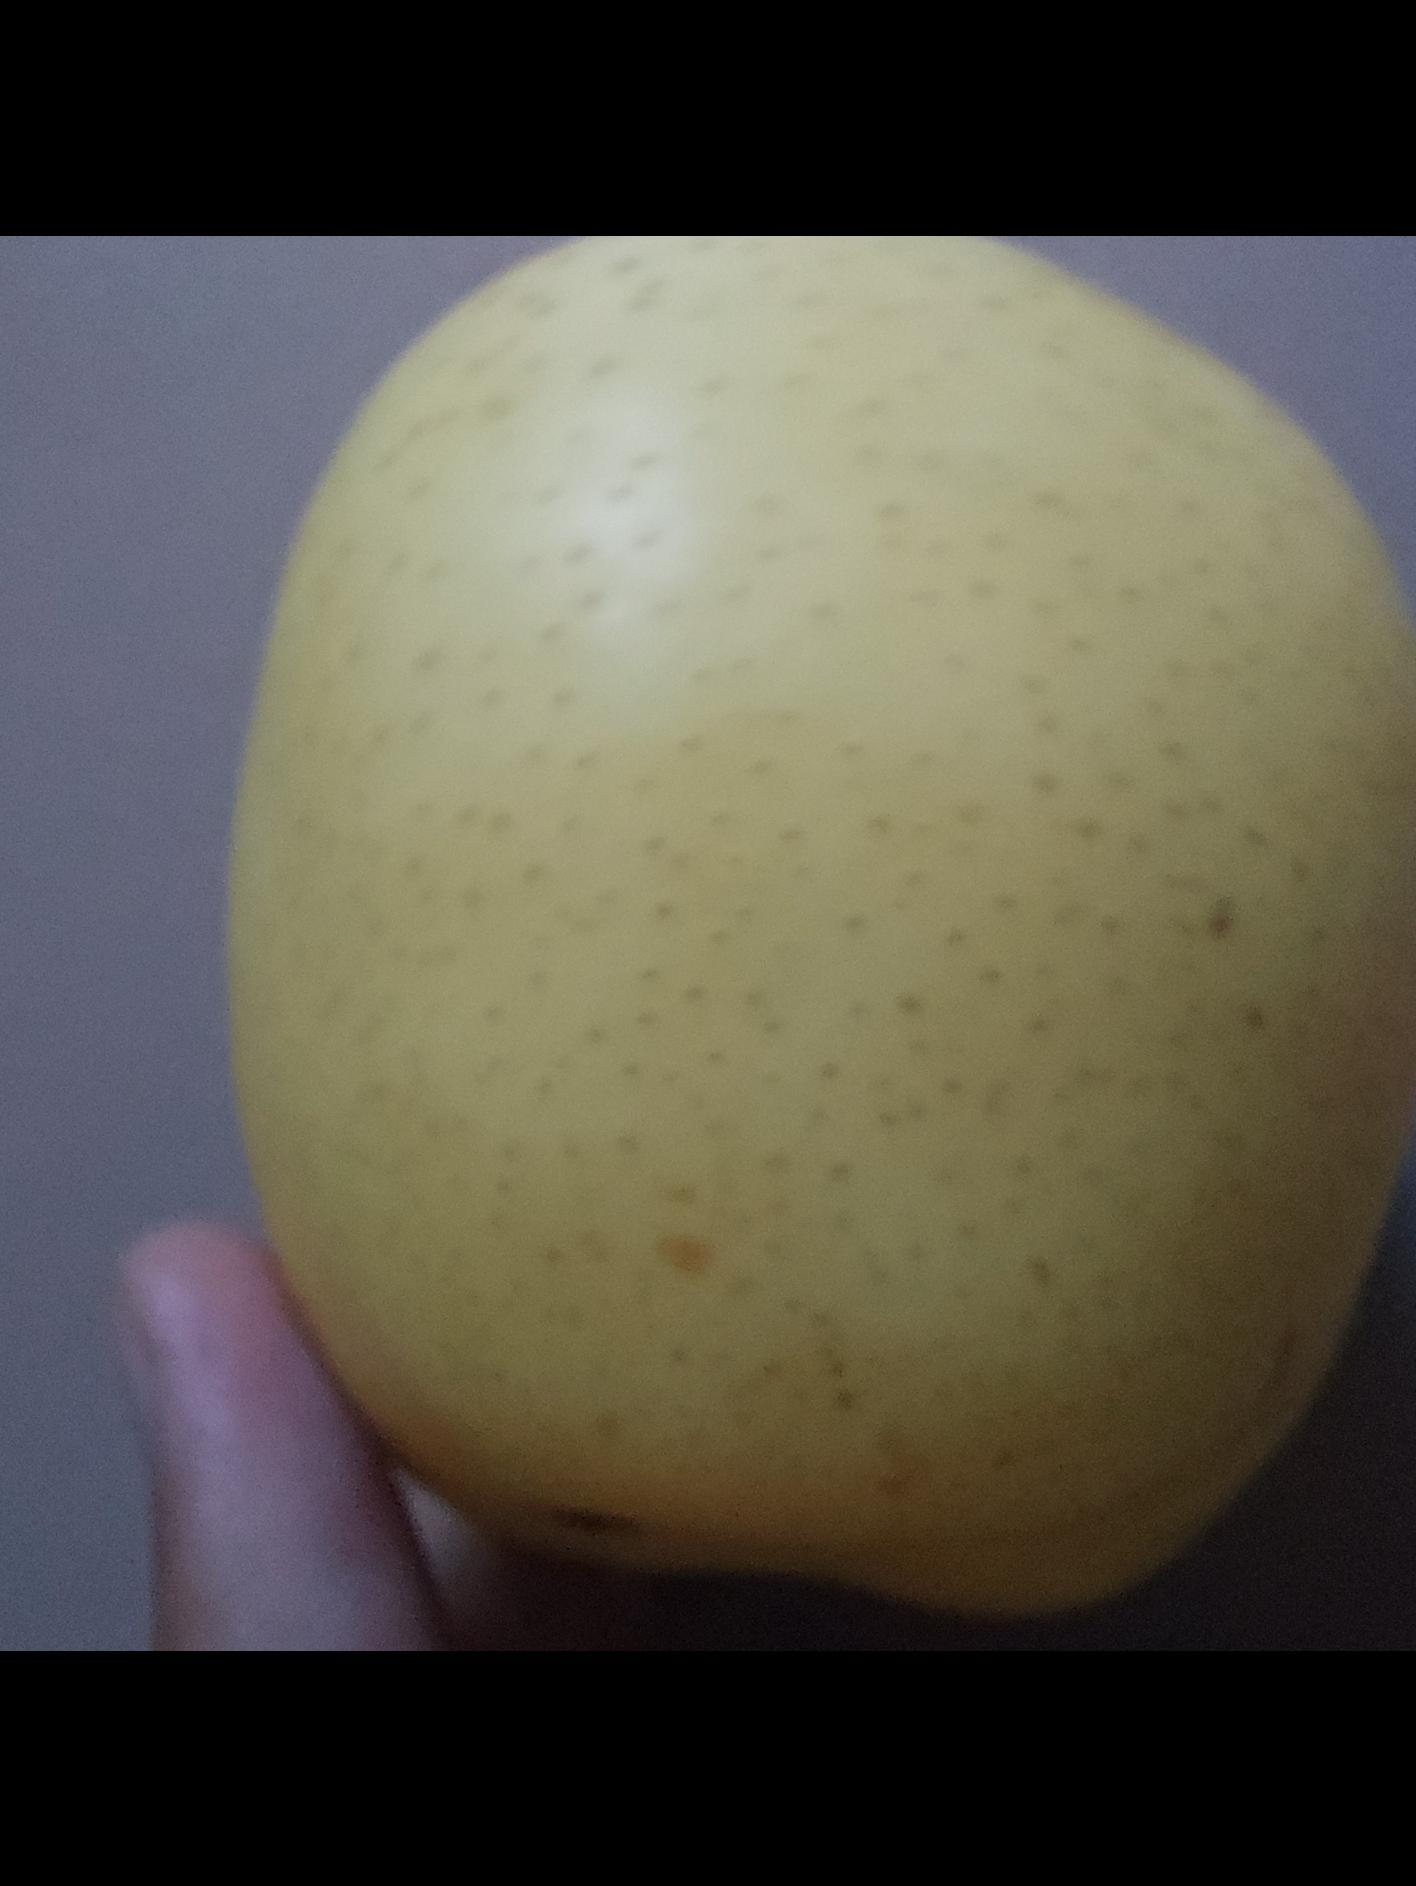Good Pear: (227, 235, 1416, 1619)
